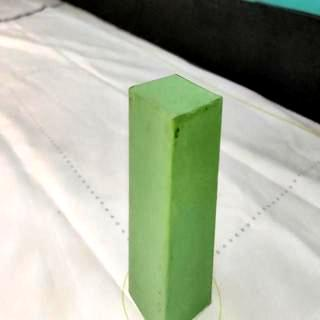greenbox: (126, 71, 226, 320)
